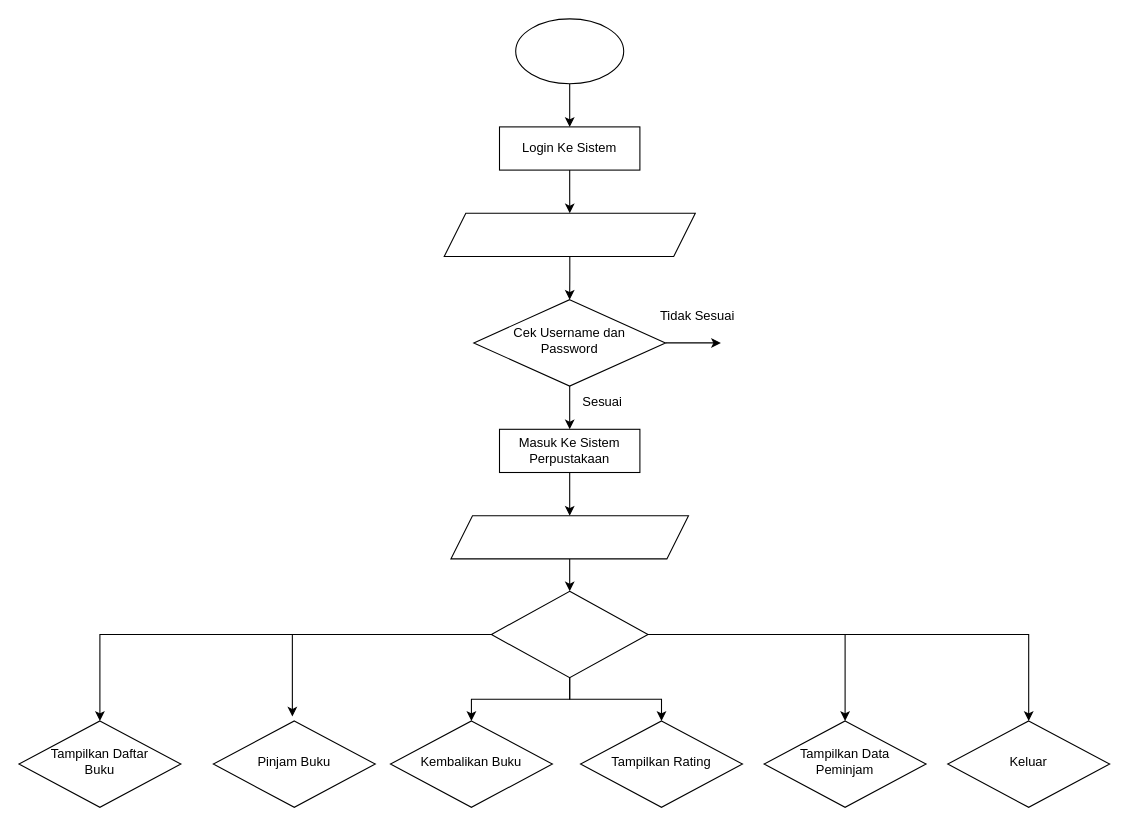
Image size: 1129x826. Some labels were removed from this diagram. The shapes that lost their labels are listed below. From the top down, each one's centre as x and y in pixels, then its label:
At (x=569, y=51): "MULAI".
At (x=569, y=234): "Masukkan Username dan Password".
At (x=569, y=537): "Membaca Data Buku".
At (x=569, y=634): "Memilih Menu".
